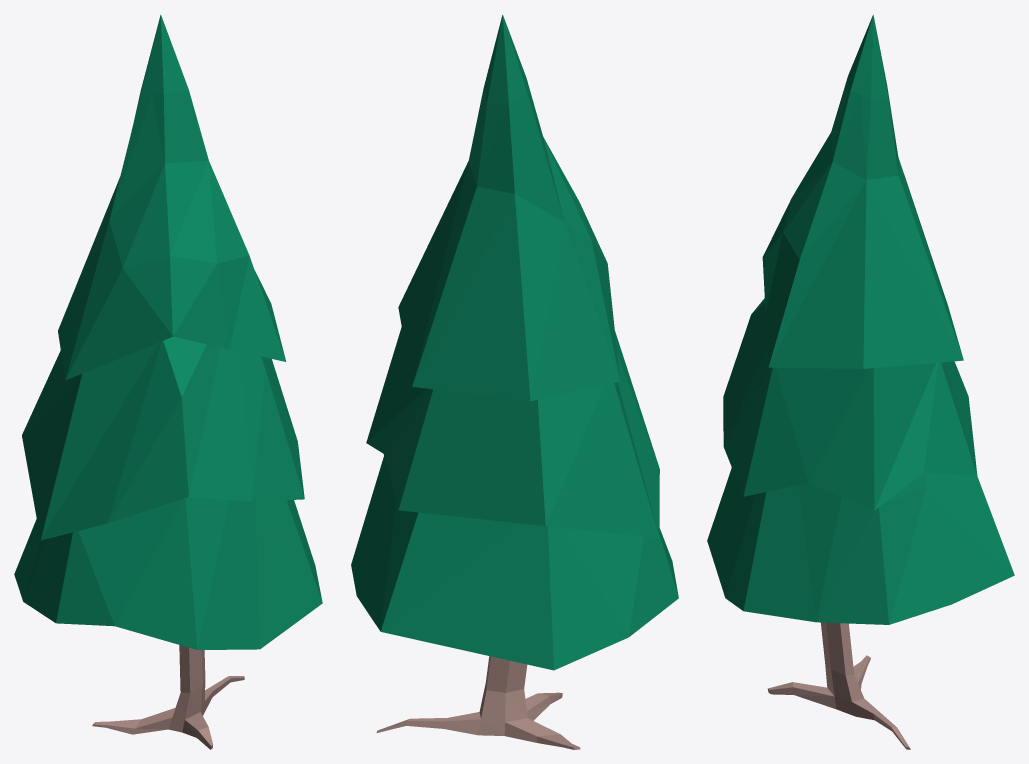
Rendered from world_1_tree_3.dae.
3 views of the same model, side by side, from view 1: azimuth 30°, elevation 25°; view 2: azimuth 150°, elevation 25°; view 3: azimuth 270°, elevation 25° (orthographic). The views are drawn at different scales.
Parts seen in each view (by area): view 1: world_1_tree_3_leaves, world_1_tree_3_base; view 2: world_1_tree_3_leaves, world_1_tree_3_base; view 3: world_1_tree_3_leaves, world_1_tree_3_base.
Part boxes in pixels (x1,y1,x2,y2): world_1_tree_3_leaves: (14, 14, 322, 649); world_1_tree_3_base: (92, 645, 244, 749); world_1_tree_3_leaves: (351, 14, 678, 670); world_1_tree_3_base: (376, 656, 580, 749); world_1_tree_3_leaves: (707, 14, 1014, 624); world_1_tree_3_base: (767, 622, 910, 749).
Size of the model in its own units: 3.35 by 3.32 by 8.18.
